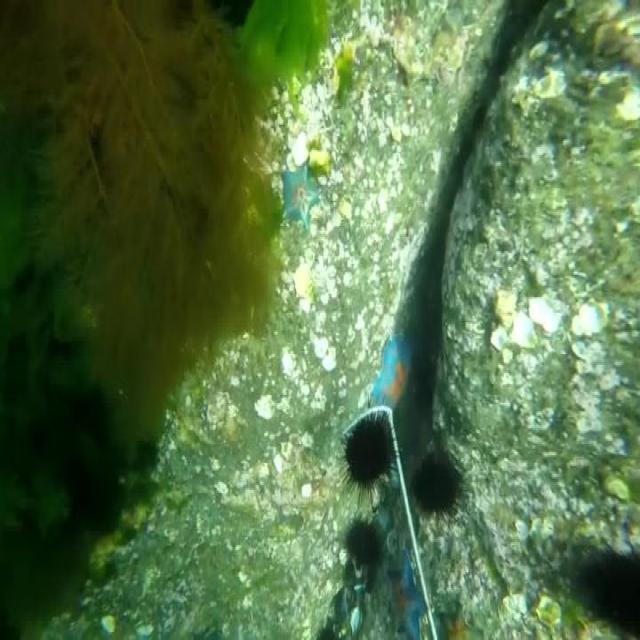echinus: (578, 545, 640, 640), (339, 410, 397, 494), (407, 455, 459, 523), (346, 520, 382, 564)
scallop: (568, 302, 606, 343), (504, 306, 536, 352), (529, 300, 559, 335), (292, 266, 311, 300), (292, 131, 310, 166), (541, 599, 560, 626)
starfish: (386, 561, 428, 640), (373, 333, 417, 408), (280, 164, 321, 231)
